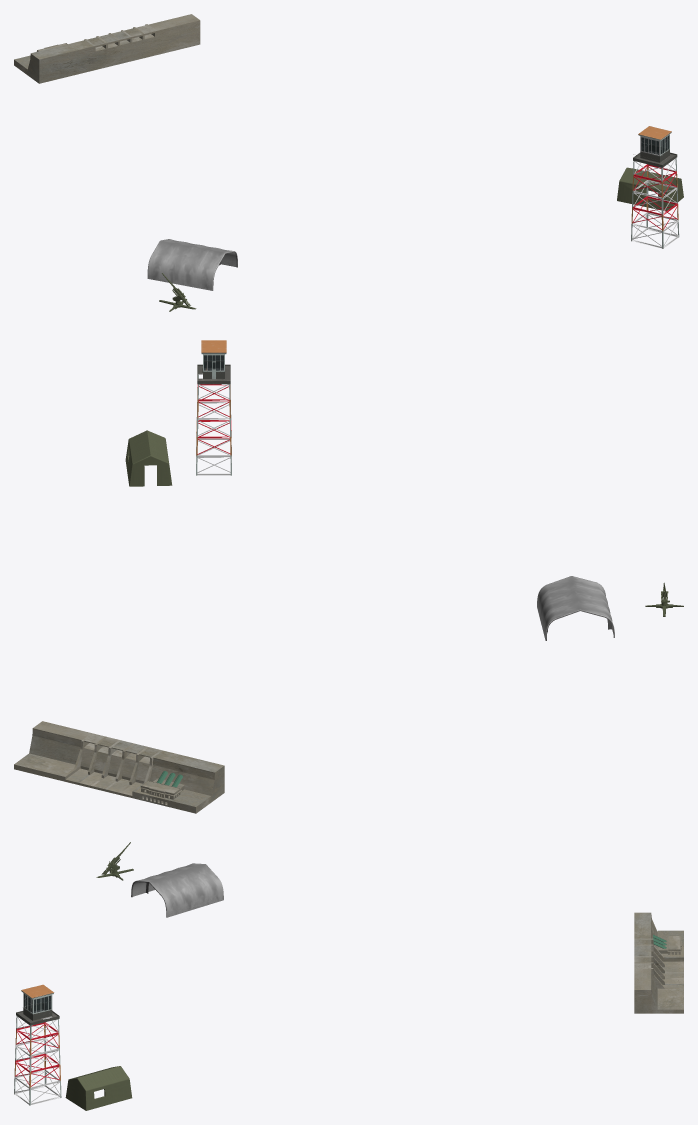
File: MöhneDam.glb
3 renders of one model, top to bottom at view 1: azimuth 30°, elevation 25°; view 2: azimuth 150°, elevation 25°; view 3: azimuth 270°, elevation 25°, orthographic. The views are drawn at different scales.
Parts seen in each view (by area): view 1: Object_4, defaultMaterial.263, clothBuilding001_Material #67_0, Box001_Main Tent_0; view 2: Object_4, defaultMaterial.263, clothBuilding001_Material #67_0, Box001_Main Tent_0; view 3: Object_4, defaultMaterial.263, clothBuilding001_Material #67_0, Box001_Main Tent_0.
Boxes of the visible parts, x1,y1,x2,y2 form: Object_4: (14, 14, 200, 83); defaultMaterial.263: (631, 126, 679, 248); clothBuilding001_Material #67_0: (147, 239, 237, 290); Box001_Main Tent_0: (617, 167, 683, 210); Object_4: (14, 721, 224, 813); defaultMaterial.263: (196, 340, 231, 475); clothBuilding001_Material #67_0: (537, 576, 614, 640); Box001_Main Tent_0: (125, 430, 172, 486); Object_4: (634, 912, 683, 1013); defaultMaterial.263: (14, 984, 61, 1105); clothBuilding001_Material #67_0: (131, 863, 223, 917); Box001_Main Tent_0: (65, 1066, 132, 1110).
Size of the model in its own units: 206 by 41.82 by 241.
12 materials, 7 textured.
